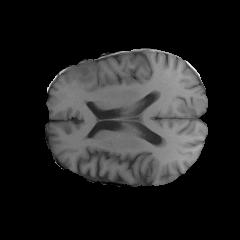glioma: (64, 62, 110, 103)
